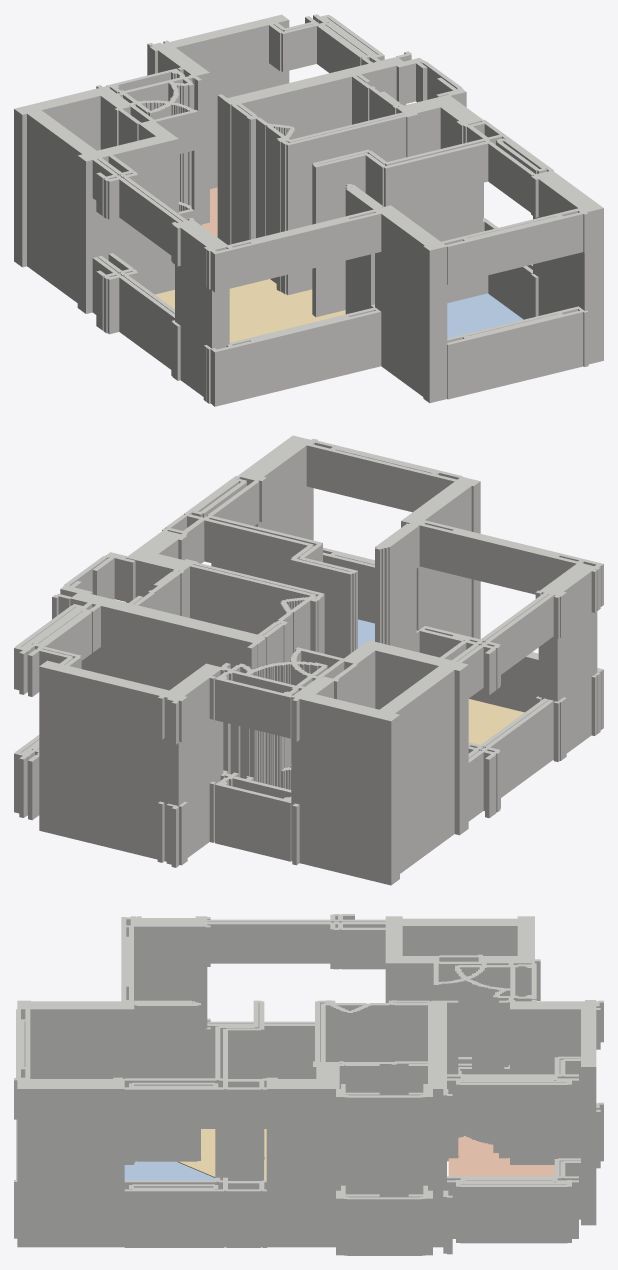
3 views of the same model, one above another, from view 1: azimuth 30°, elevation 25°; view 2: azimuth 150°, elevation 25°; view 3: azimuth 270°, elevation 25° (orthographic). The views are drawn at different scales.
Visible parts, largest first — view 1: walls, room:living:1, room:bedroom:6; view 2: walls, room:living:1; view 3: walls, room:kitchen:5, room:bedroom:6, room:living:1.
Boxes of the visible parts, box(x1,y1,x2,y2) form: walls: box(14, 14, 603, 406); room:living:1: box(155, 279, 345, 342); room:bedroom:6: box(447, 293, 523, 338); walls: box(14, 435, 603, 885); room:living:1: box(468, 699, 524, 744); walls: box(14, 914, 603, 1255); room:kitchen:5: box(448, 1136, 554, 1176); room:bedroom:6: box(124, 1161, 215, 1180); room:living:1: box(178, 1129, 266, 1180).
Bounding box in the file's own units: 6.96 × 2.8 × 9.45.
